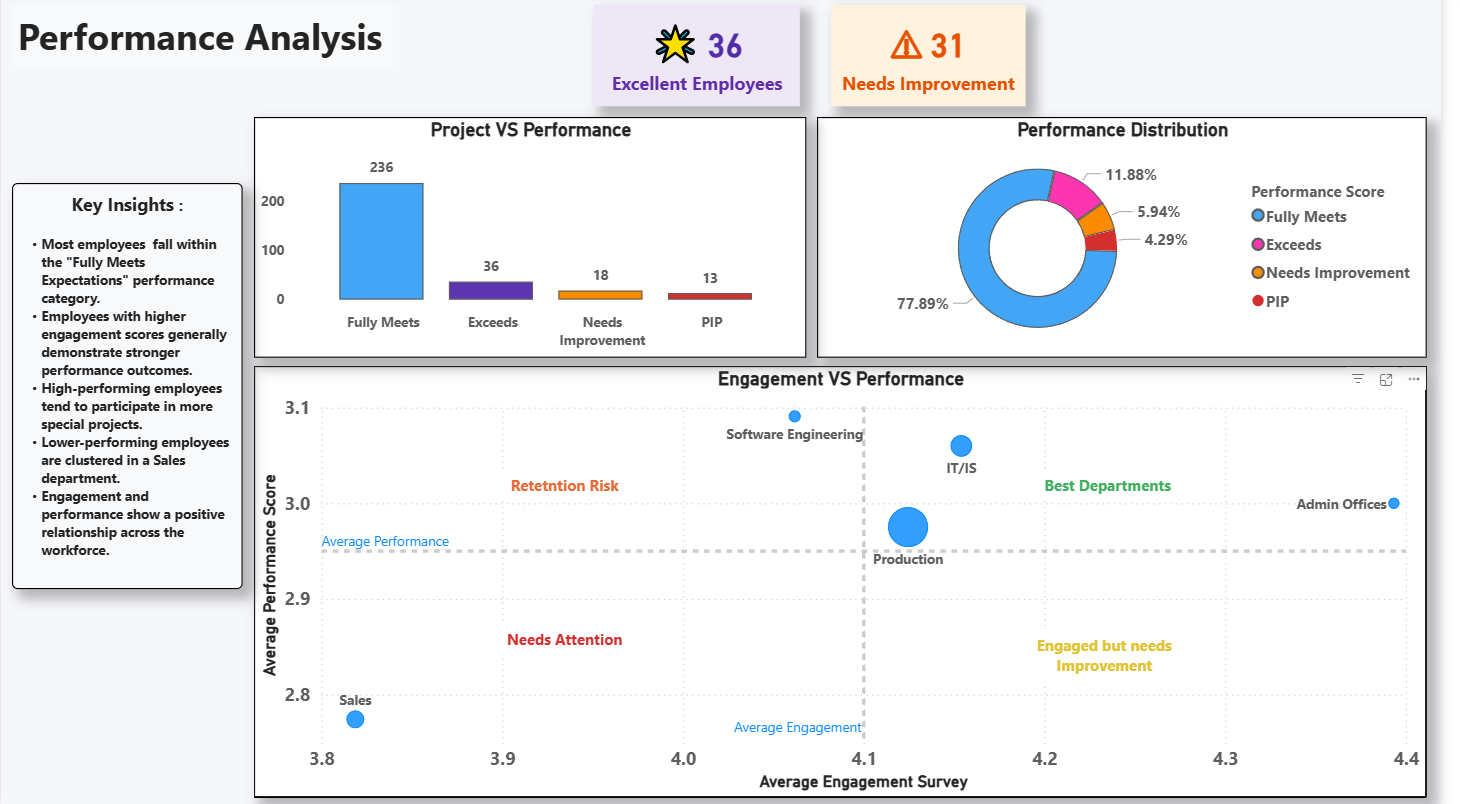

What the dashboard file says about the page in this screenshot:
{"tool":"powerbi","page":{"name":"Performance Analysis","canvas":[1280,720],"ordinal":4},"visuals":[{"type":"scatterChart","title":"Engagement VS Performance","fields":{"X":["Avg(project performance_analysis.EngagementSurvey)"],"Category":["project performance_analysis.Department"],"Y":["Avg(project performance_analysis.Performance Score)"],"Size":["CountNonNull(project performance_analysis.Employee_name)"]},"box":[225.2,328.7,1041.9,383.6],"z":0},{"type":"textbox","box":[902.6,420.9,162.9,27.3],"z":1000},{"type":"textbox","box":[912.7,563.6,135.6,45.5],"z":2000},{"type":"textbox","box":[419.3,558.5,163,27.5],"z":3000},{"type":"textbox","box":[419.3,421.2,163,27.5],"z":4000},{"type":"card","fields":{"Values":["project performance_analysis.Excellent Employees"]},"box":[527.5,8.2,183.1,89.7],"z":5000},{"type":"card","fields":{"Values":["project performance_analysis.Needs Improvement"]},"box":[738.1,8.2,173,89.7],"z":6000},{"type":"donutChart","title":"Performance Distribution","fields":{"Y":["CountNonNull(project performance_analysis.Employee_name)"],"Category":["project performance_analysis.PerformanceScore"]},"box":[725.2,107.1,542,214.2],"z":7000},{"type":"clusteredColumnChart","title":"Project VS Performance","fields":{"Y":["CountNonNull(project performance_analysis.SpecialProjectsCount)"],"Category":["project performance_analysis.PerformanceScore"]},"box":[225.2,107.1,490.8,214.2],"z":8000},{"type":"textbox","box":[10.1,8.2,338.8,55.9],"z":9000},{"type":"textbox","box":[10.1,166.6,205.1,360.7],"z":10000}]}

Visuals, with their boxes in screenshot pixels (x1, y1, x2, y2), scaled from the page's 1280x720 canvas onto the 1460x804 screenshot:
"Engagement VS Performance" scatterChart: 257/367/1445/795
textbox: 1030/470/1215/500
textbox: 1041/629/1196/680
textbox: 478/624/664/654
textbox: 478/470/664/501
card - project performance_analysis.Excellent Employees: 602/9/811/109
card - project performance_analysis.Needs Improvement: 842/9/1039/109
"Performance Distribution" donutChart: 827/120/1445/359
"Project VS Performance" clusteredColumnChart: 257/120/817/359
textbox: 12/9/398/72
textbox: 12/186/245/589
